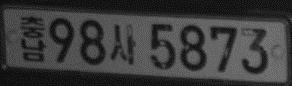3: (240, 27, 269, 74)
5: (149, 22, 176, 71)
7: (209, 26, 237, 72)
8: (78, 18, 106, 66), (179, 25, 206, 72)
9: (48, 17, 75, 62)
사: (110, 23, 136, 65)
충남_V: (19, 14, 45, 63)
